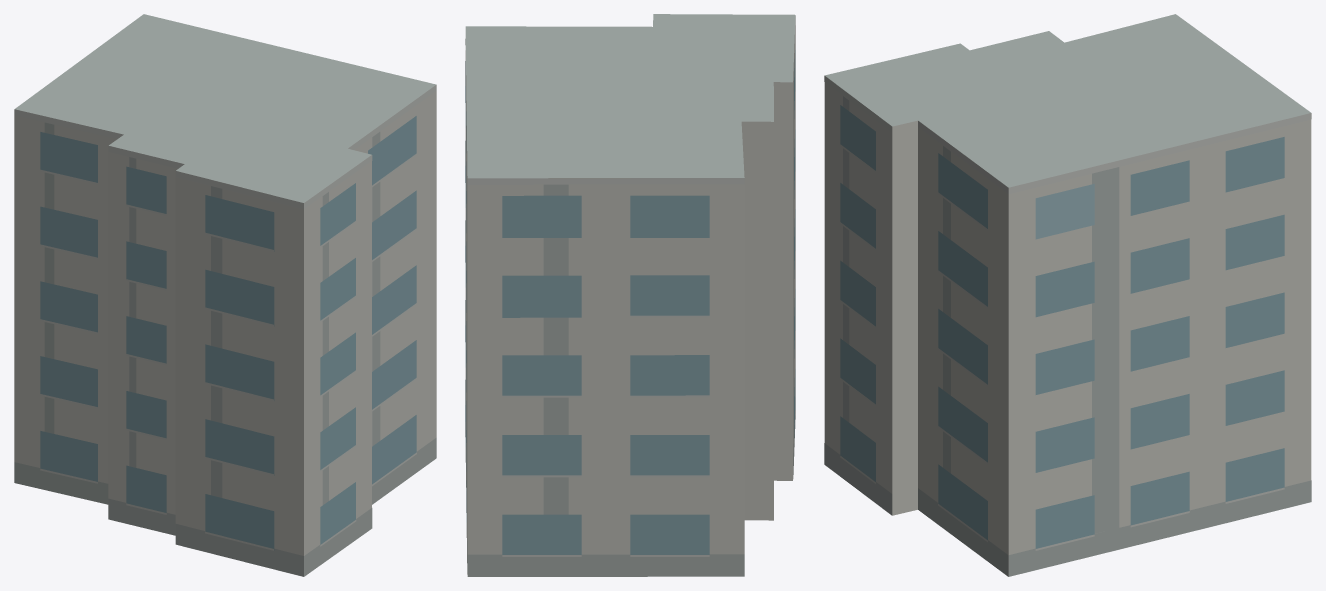
File: survey-upis-33043969.glb
3 views of the same model, side by side, from view 1: azimuth 30°, elevation 25°; view 2: azimuth 150°, elevation 25°; view 3: azimuth 270°, elevation 25° (orthographic). The views are drawn at different scales.
Visible parts, largest first — view 1: survey-upis-33043969.tmp; view 2: survey-upis-33043969.tmp; view 3: survey-upis-33043969.tmp.
Part boxes in pixels (x1,y1,x2,y2): survey-upis-33043969.tmp: (14, 14, 436, 576); survey-upis-33043969.tmp: (465, 14, 795, 576); survey-upis-33043969.tmp: (824, 14, 1311, 576).
Bounding box in the file's own units: 13.94 × 14.55 × 16.51.
